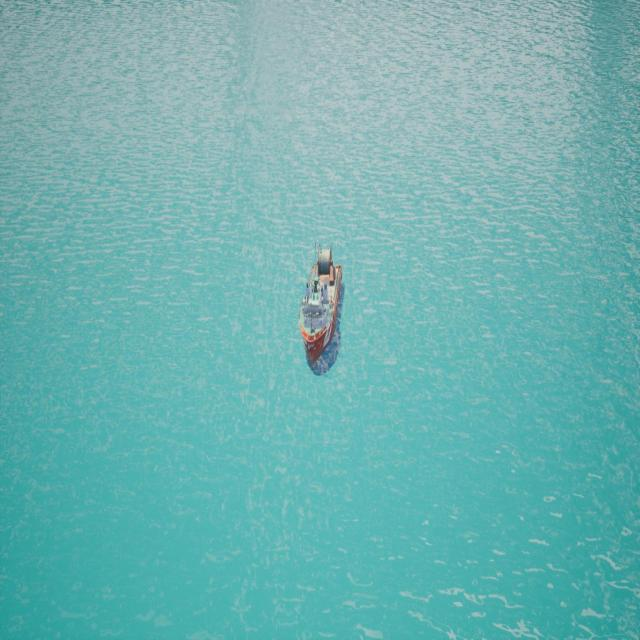tug boat: (299, 245, 342, 379)
